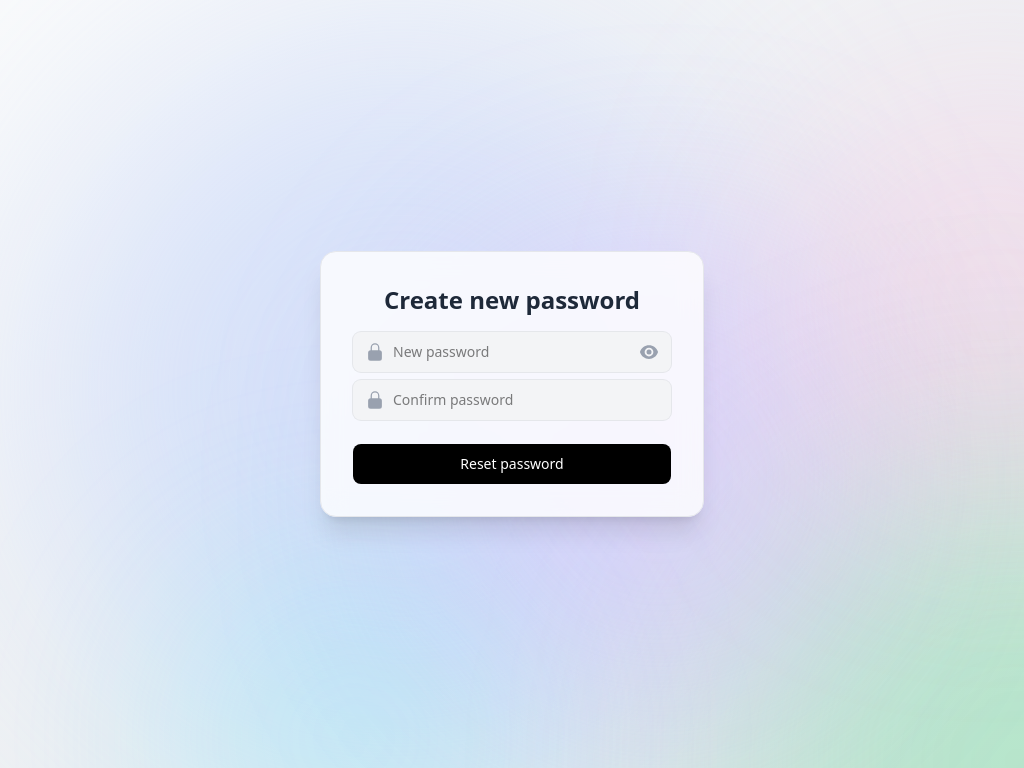
Test case: ResetPassword › shows error for invalid or expired token
In the password field with placeholder "New password": (512, 352) [353, 332, 671, 372], type "Str0ng!Pass"
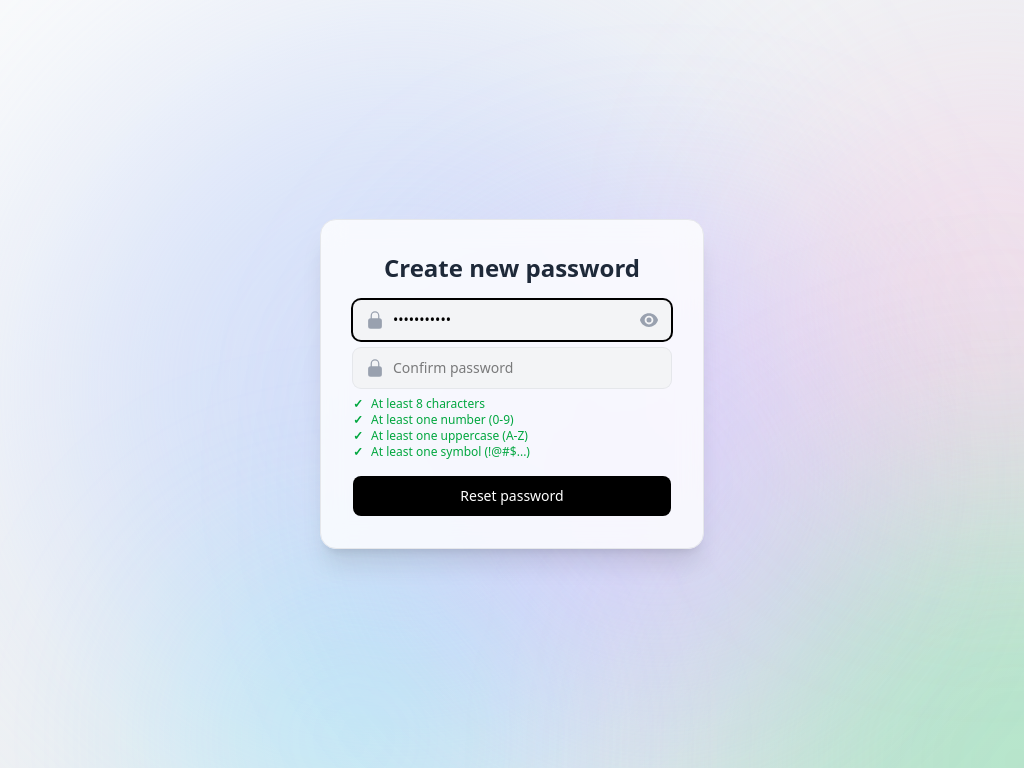
In the password field with placeholder "Confirm password": (512, 368) [353, 348, 671, 388], type "Str0ng!Pass"
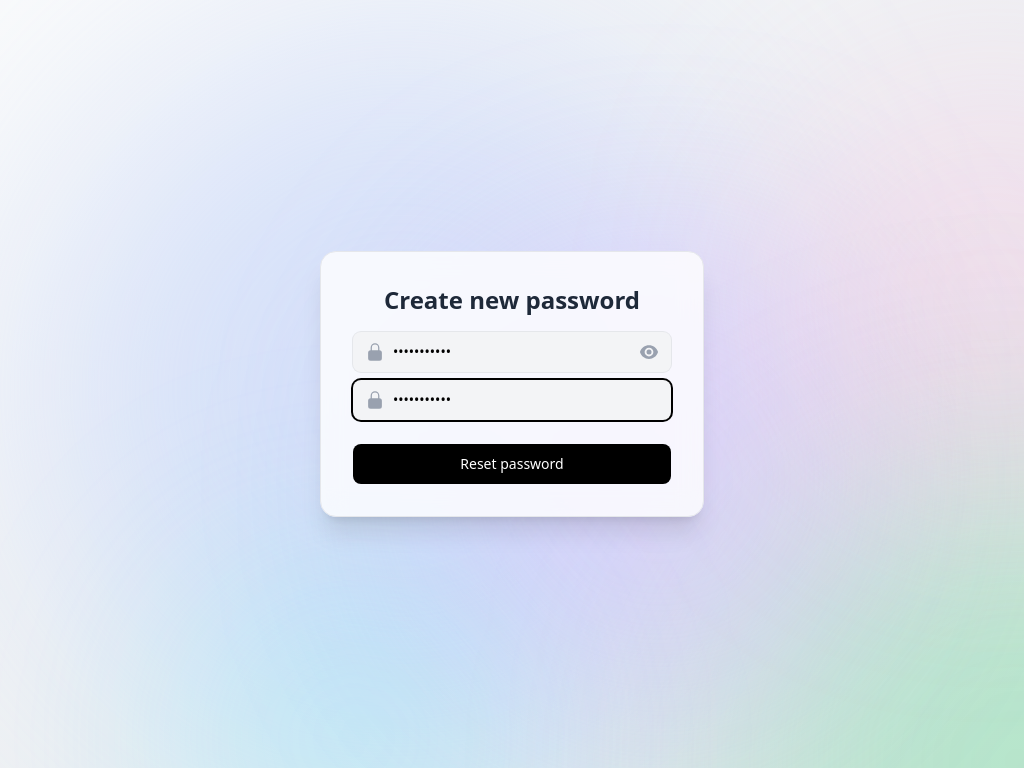
Click the button "Reset password": (512, 464) [353, 444, 671, 484]
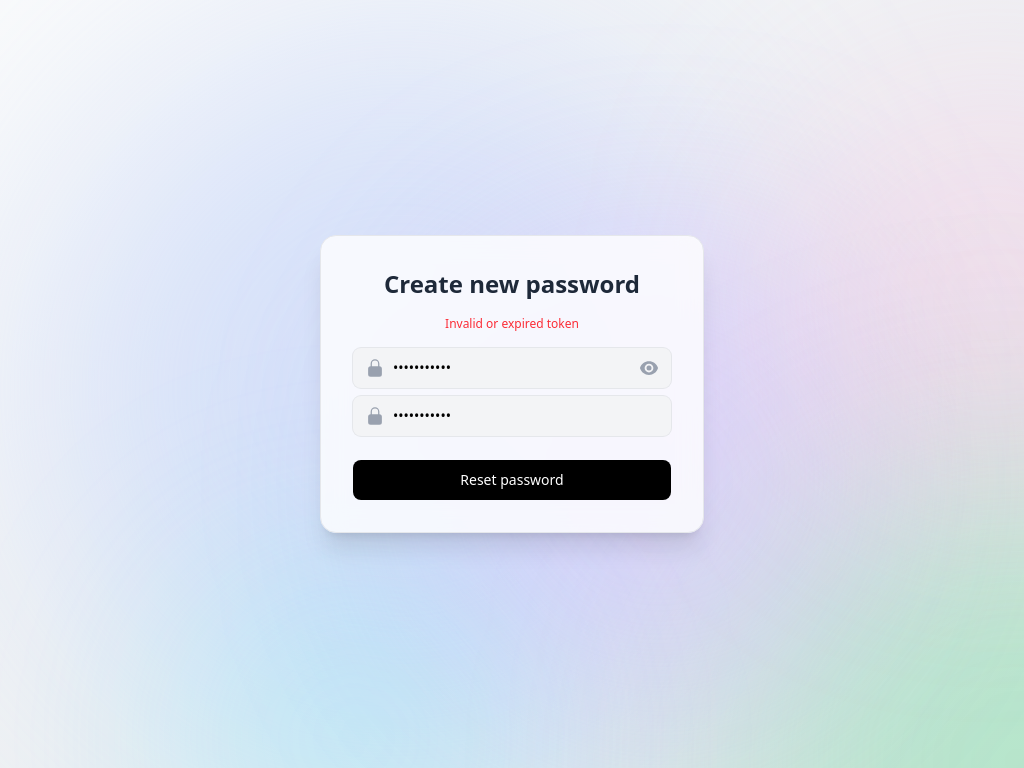
Now the text "Invalid or expired token" is shown, box [445, 315, 579, 332]
